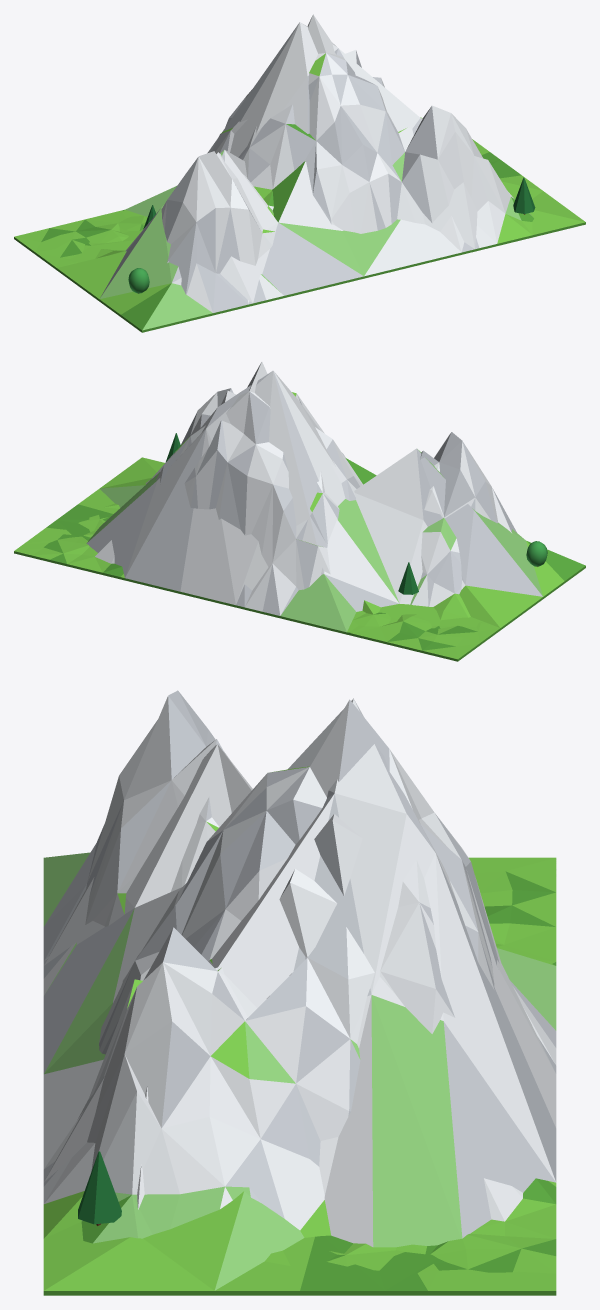
Rendered from montanha_crista.glb.
3 views of the same model, one above another, from view 1: azimuth 30°, elevation 25°; view 2: azimuth 150°, elevation 25°; view 3: azimuth 270°, elevation 25° (orthographic). The views are drawn at different scales.
Visible parts, largest first — view 1: montanha_crista, colisao_montanha; view 2: colisao_montanha, montanha_crista; view 3: montanha_crista, colisao_montanha.
Boxes of the visible parts, x1=… form: montanha_crista: x1=14, y1=14, x2=585, y2=332; colisao_montanha: x1=14, y1=22, x2=585, y2=332; colisao_montanha: x1=14, y1=370, x2=585, y2=661; montanha_crista: x1=14, y1=362, x2=564, y2=661; montanha_crista: x1=43, y1=690, x2=556, y2=1295; colisao_montanha: x1=43, y1=698, x2=556, y2=1295.
Bounding box in the file's own units: 60 × 26.13 × 30.
1 material, 1 textured.
